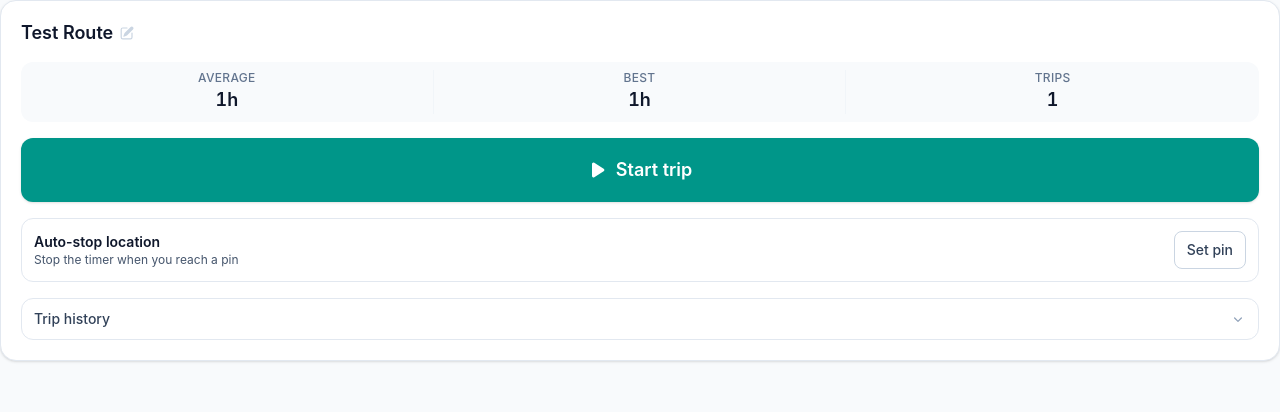
Test: RouteCard editing functionality › edit mode state transitions and UI updates › should enter edit mode when route name is clicked
Click the button with aria-label "edit route name: test route" at (78, 33), box left=17, top=21, right=139, bottom=46
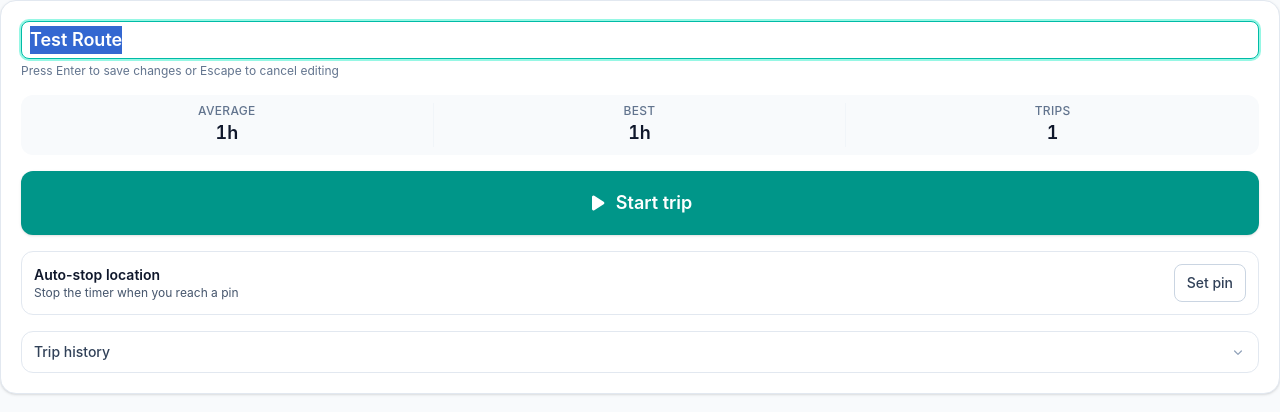
Result: the field named "route name input field" holds "Test Route" at left=21, top=21, right=1259, bottom=59
